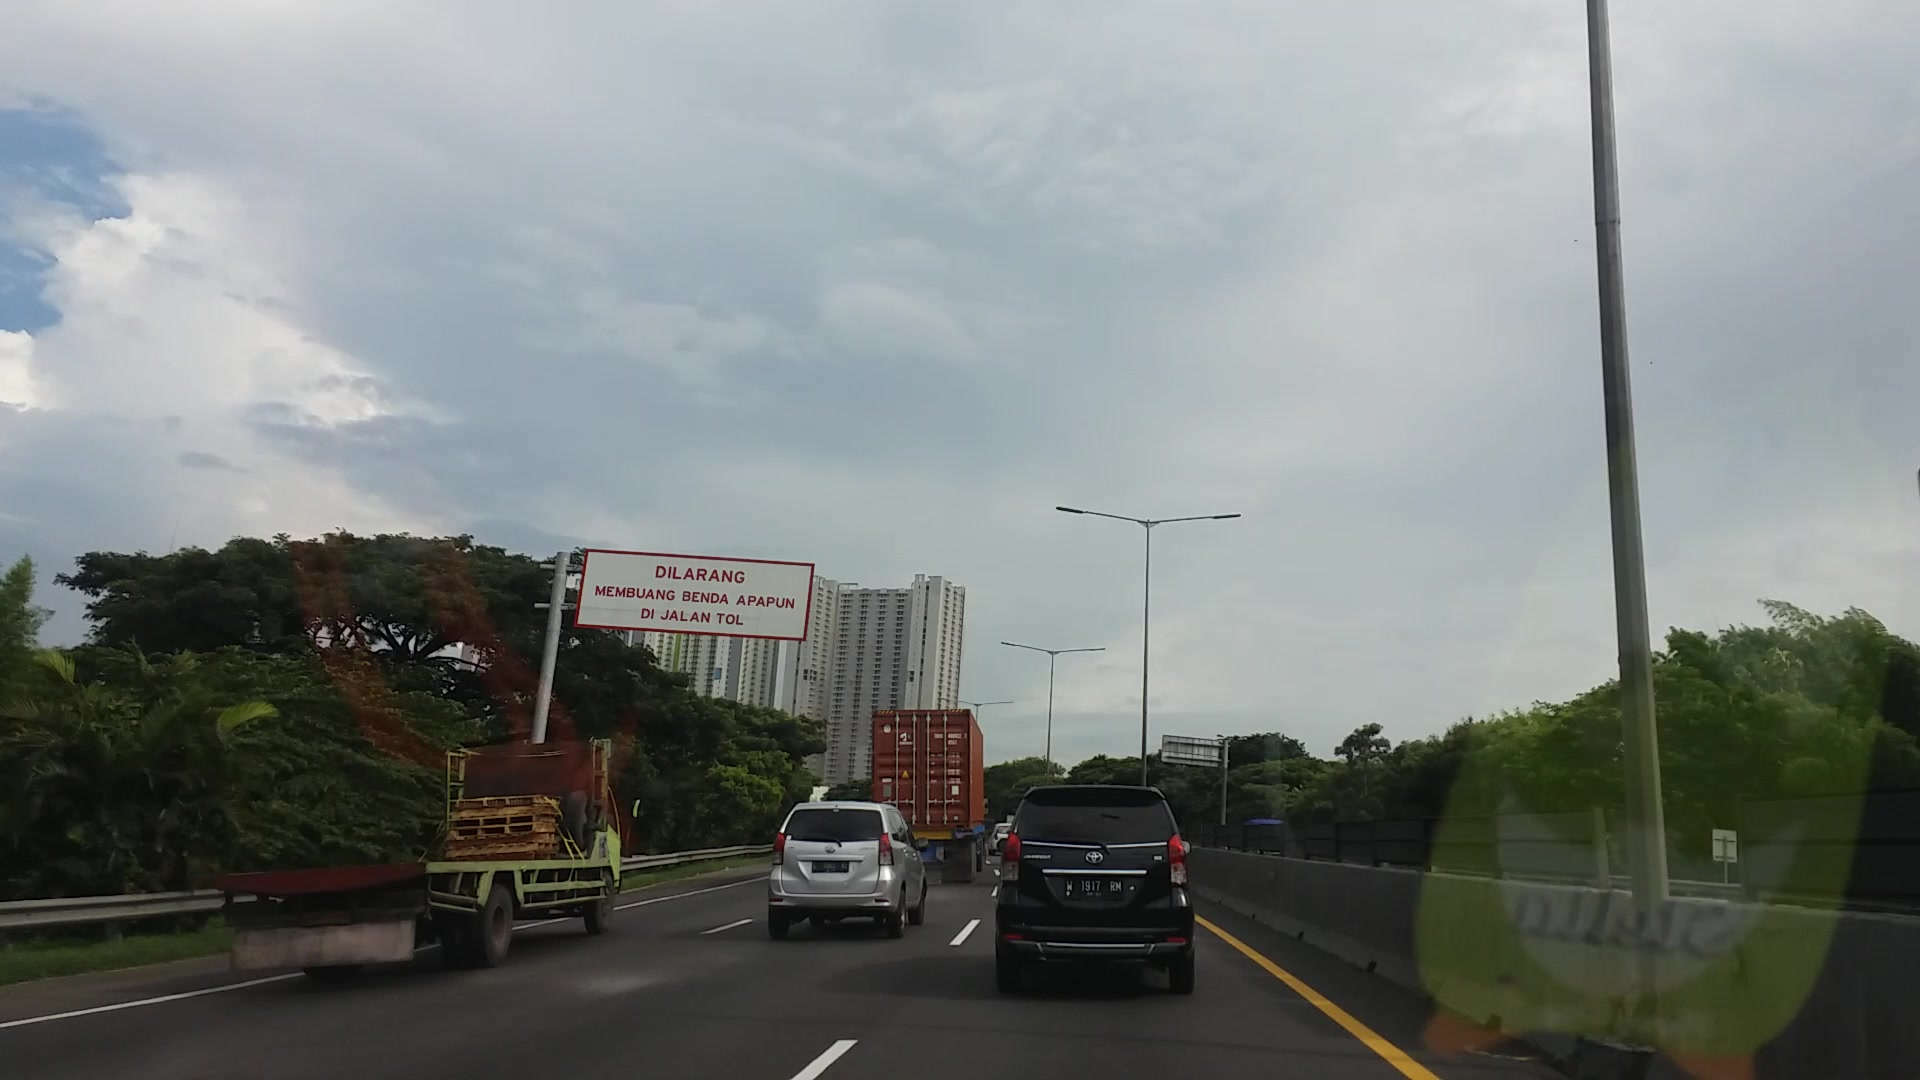plate_positive: (1064, 876, 1124, 899)
